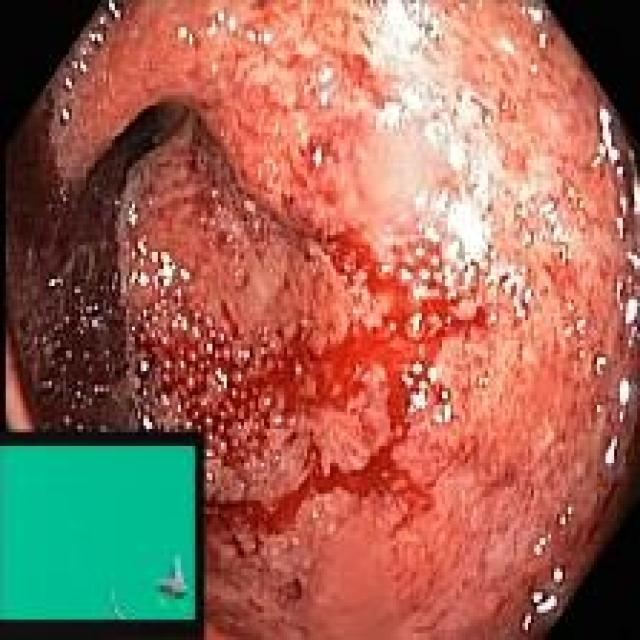ulcerative-colitis-grade-3: (9, 3, 640, 639)
